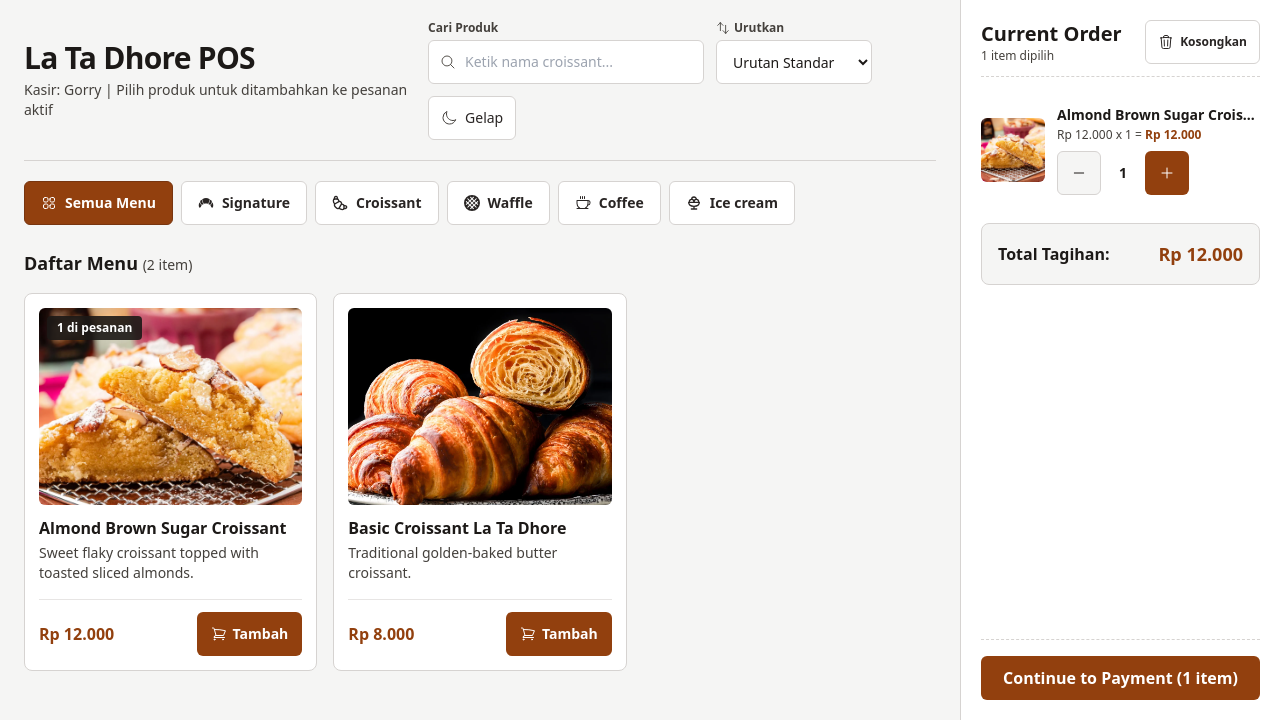
Test: renders POS header, loads products, adds to order, adjusts quantity, and processes payment
Earlier steps of the test are not shown.
Expected: the text "1 item dipilih" is shown, [981,47,1054,64]
Note: Open Payment modal & validate insufficient cash, then complete payment
Click the button "Continue to Payment (1 item)": (1120, 678) [981,656,1260,700]
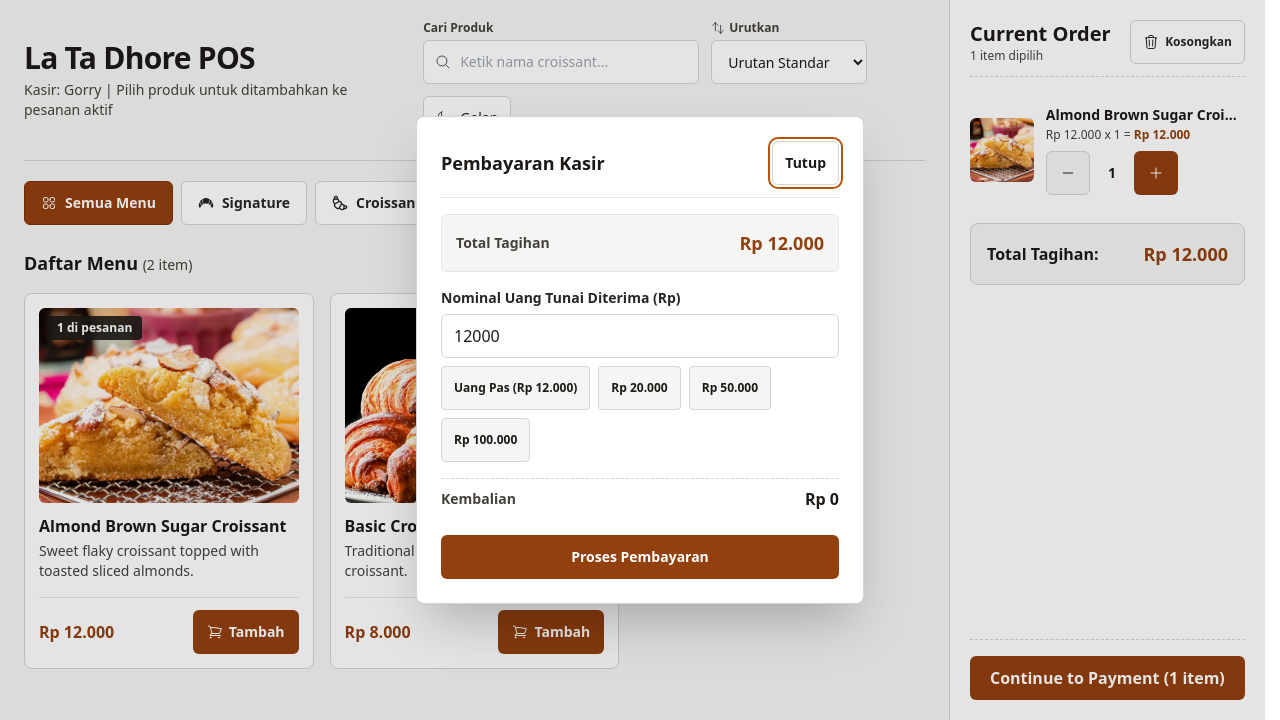
Replace the text in the field labelled "Nominal Uang Tunai Diterima (Rp)" with "5000": (640, 336) [441,314,839,358]
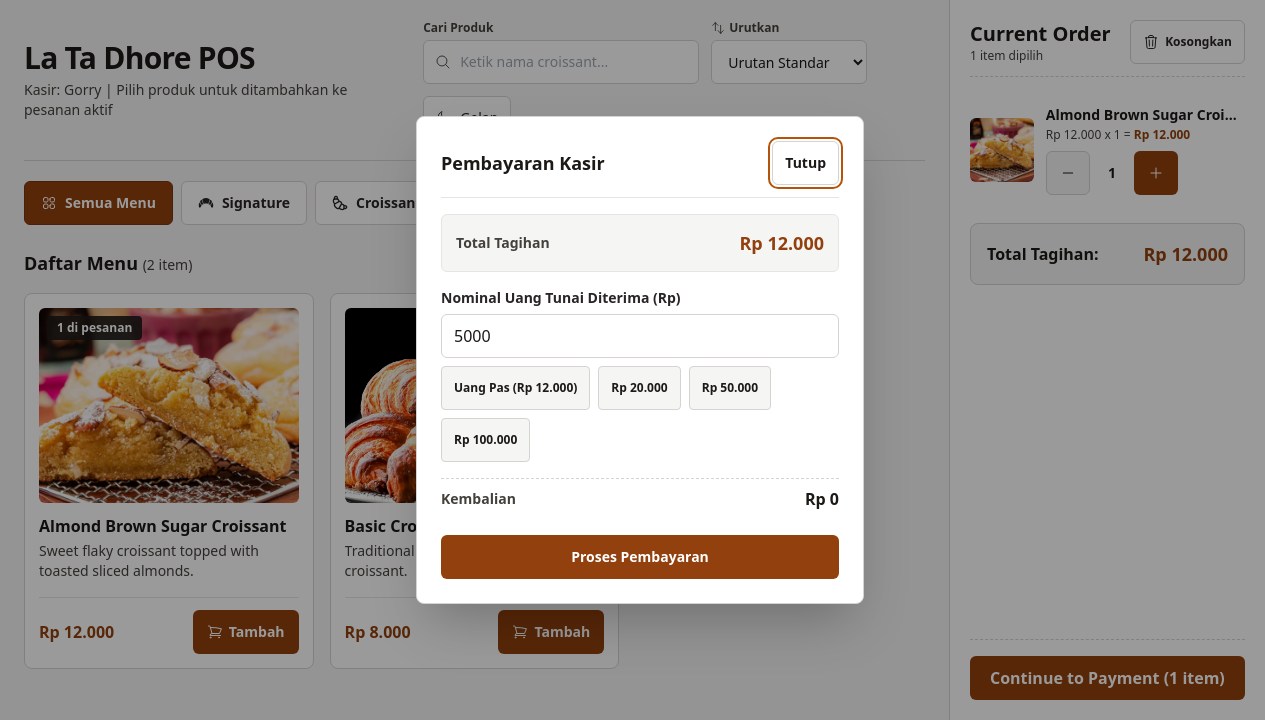
Click the button "Proses Pembayaran": (640, 557) [441,535,839,579]
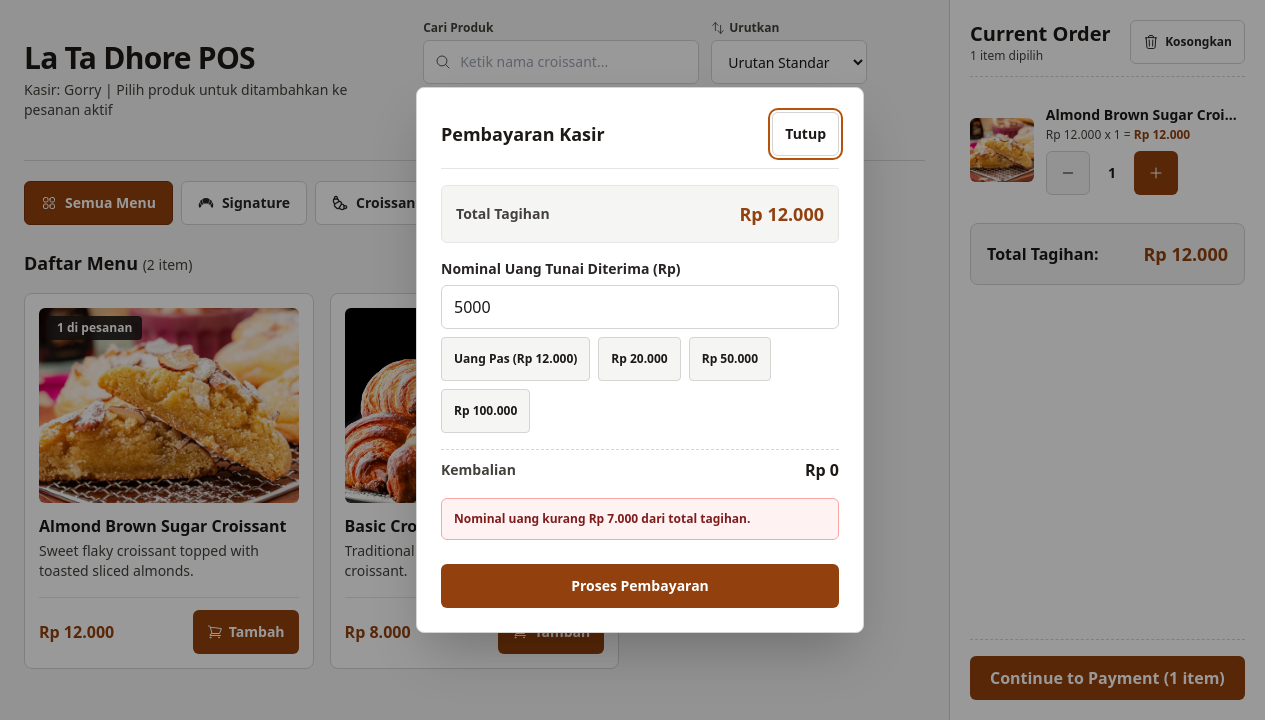
Now the message shows "Nominal uang kurang", box [454,510,750,527]
Click the button "Rp 50.000": (730, 359) [689,337,771,381]
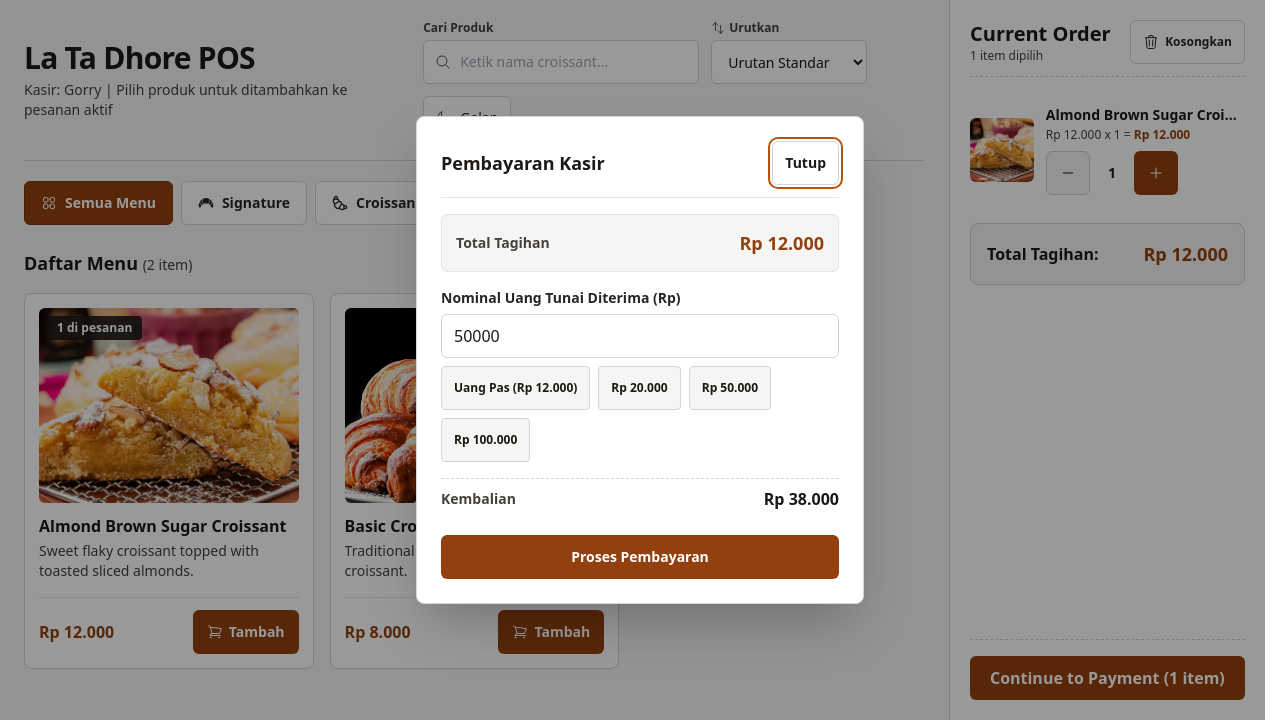
Click the button "Proses Pembayaran": (640, 557) [441,535,839,579]
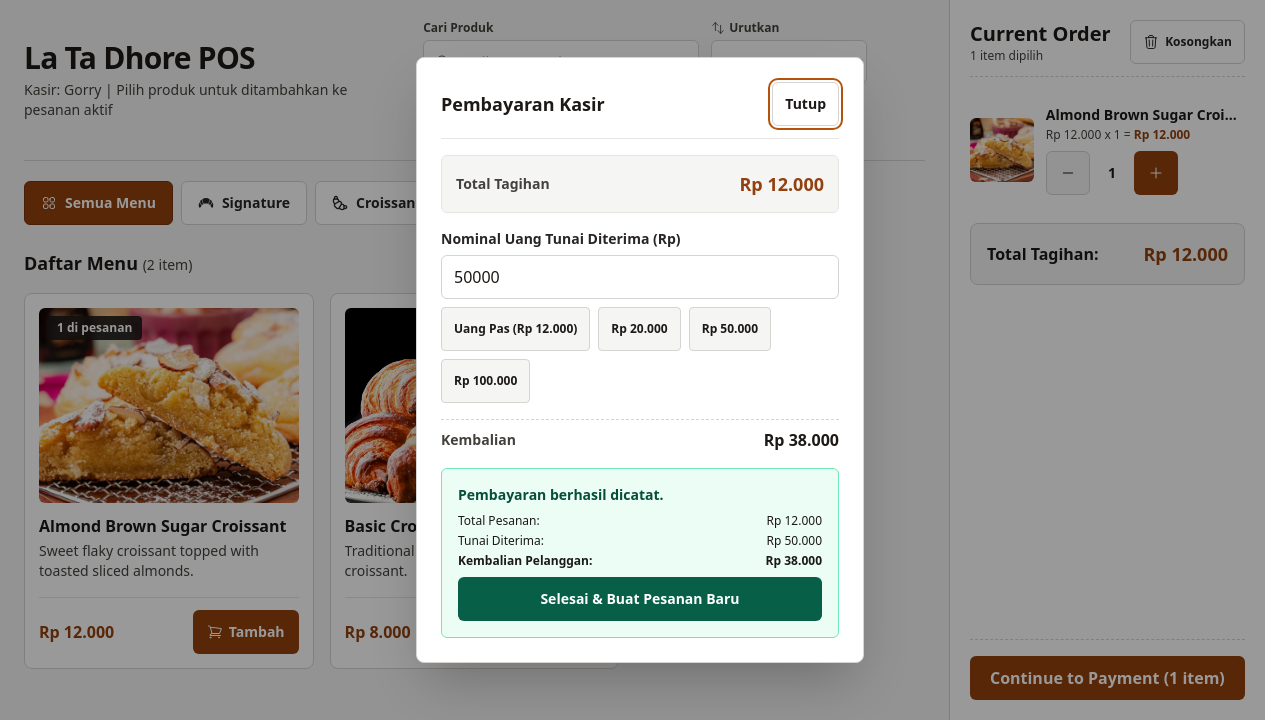
Now the 1st text "Rp 38.000" is shown, box [764,428,839,452]
Now the text "Pembayaran berhasil dicatat." is shown, box [458,485,664,504]
Click the button "Selesai & Buat Pesanan Baru": (640, 599) [458,577,822,621]
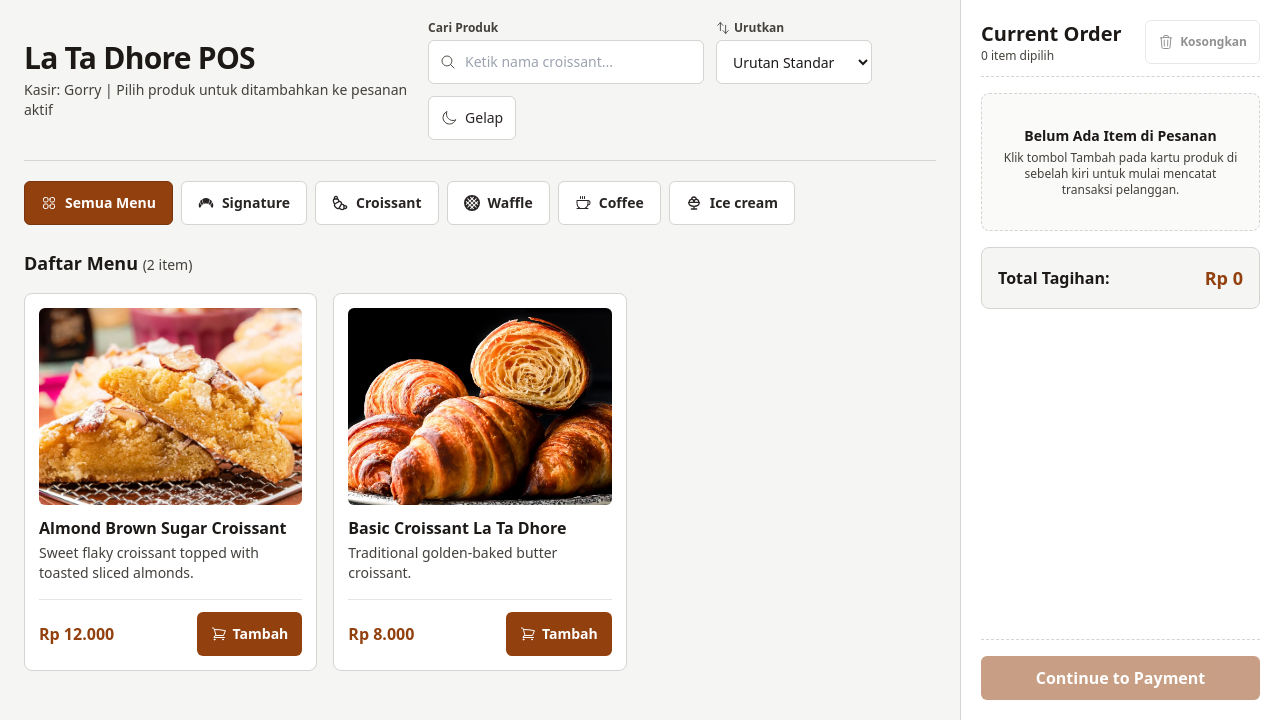
Now the text "0 item dipilih" is shown, box [981,47,1054,64]
